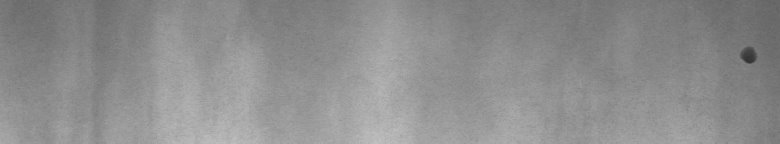fi: (736, 40, 763, 72)
